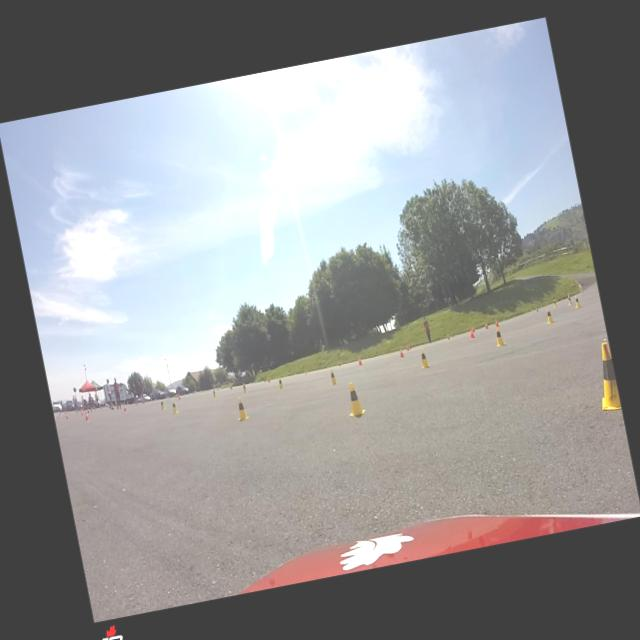orange_cone: (470, 328, 476, 339), (494, 318, 500, 328), (84, 412, 89, 422), (400, 348, 404, 358), (358, 358, 362, 366), (484, 322, 488, 330), (123, 405, 127, 412), (472, 326, 475, 334)
yellow_cone: (590, 342, 621, 411), (344, 381, 366, 418), (234, 397, 250, 422), (418, 348, 431, 369), (494, 328, 506, 348), (544, 308, 554, 324), (328, 370, 338, 384), (566, 294, 574, 307), (573, 295, 581, 308), (170, 402, 178, 414), (277, 376, 283, 390), (242, 382, 248, 393), (552, 299, 558, 308), (160, 400, 165, 410), (212, 389, 216, 398)
